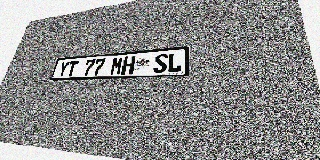plate: (50, 46, 190, 81)
